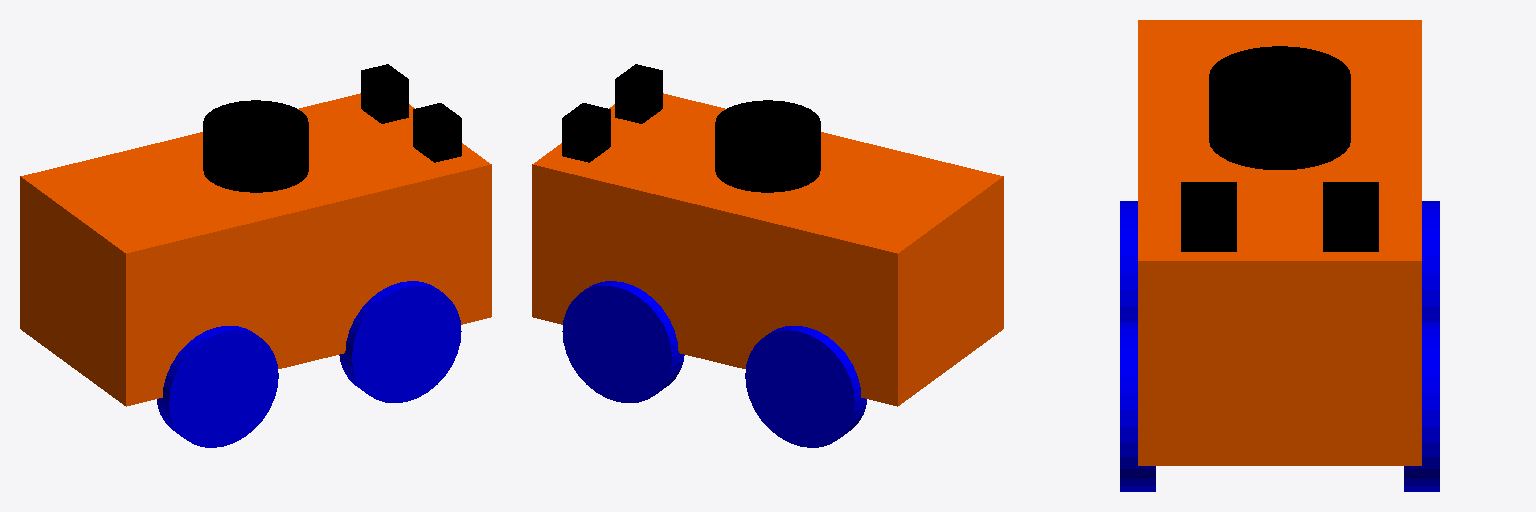
The robot description file, URDF, robot "4wd_test":
<?xml version="1.0" ?>
<robot name="4wd_test">

<link name="base_link">
    <visual>
        <origin xyz=" 0 0 0" rpy="0 0 0" />
        <geometry>
            <box size="0.40 0.20 0.16"/>
        </geometry>
        <material name="yellow">
            <color rgba="1 0.4 0 1"/>
        </material>
    </visual>
</link>

<joint name="left_back_wheel_joint" type="continuous">
    <origin xyz="-0.1 -0.1 -0.08" rpy="0 0 0"/>
    <parent link="base_link"/>
    <child link="left_back_wheel_link"/>
    <axis xyz="0 1 0"/>
</joint>

<link name="left_back_wheel_link">
    <visual>
        <origin xyz="0 0 0" rpy="1.5707 0 0" />
        <geometry>
            <cylinder radius="0.06" length = "0.025"/>
        </geometry>
        <material name="blue">
            <color rgba="0 0 1 0.9"/>
        </material>
    </visual>
</link>

<joint name="right_back_wheel_joint" type="continuous">
    <origin xyz="-0.1 0.1 -0.08" rpy="0 0 0"/>
    <parent link="base_link"/>
    <child link="right_back_wheel_link"/>
    <axis xyz="0 1 0"/>
</joint>

<link name="right_back_wheel_link">
    <visual>
        <origin xyz="0 0 0" rpy="1.5707 0 0" />
        <geometry>
            <cylinder radius="0.06" length = "0.025"/>
        </geometry>
        <material name="blue">
            <color rgba="0 0 1 0.9"/>
        </material>
    </visual>
</link>

<joint name="left_front_wheel_joint" type="continuous">
    <origin xyz="0.1 -0.1 -0.08" rpy="0 0 0"/>
    <parent link="base_link"/>
    <child link="left_front_wheel_link"/>
    <axis xyz="0 1 0"/>
</joint>

<link name="left_front_wheel_link">
    <visual>
        <origin xyz="0 0 0" rpy="1.5707 0 0" />
        <geometry>
            <cylinder radius="0.06" length = "0.025"/>
        </geometry>
        <material name="blue">
            <color rgba="0 0 1 0.9"/>
        </material>
    </visual>
</link>

<joint name="right_front_wheel_joint" type="continuous">
    <origin xyz="0.1 0.1 -0.08" rpy="0 0 0"/>
    <parent link="base_link"/>
    <child link="right_front_wheel_link"/>
    <axis xyz="0 1 0"/>
</joint>

<link name="right_front_wheel_link">
    <visual>
        <origin xyz="0 0 0" rpy="1.5707 0 0" />
        <geometry>
            <cylinder radius="0.06" length = "0.025"/>
        </geometry>
        <material name="blue">
            <color rgba="0 0 1 0.9"/>
        </material>
    </visual>
</link>

<joint name="left_camera_joint" type="fixed">
    <origin xyz="0.17 -0.05 0.10" rpy="0 0 0"/>
    <parent link="base_link"/>
    <child link="left_camera_link"/>
</joint>


<link name="left_camera_link">
    <visual>
        <origin xyz=" 0 0 0 " rpy="0 0 0" />
        <geometry>
            <box size="0.03 0.04 0.04" />
        </geometry>
        <material name="black">
            <color rgba="0 0 0 0.95"/>
        </material>
    </visual>
</link>

<joint name="right_camera_joint" type="fixed">
    <origin xyz="0.17 0.05 0.10" rpy="0 0 0"/>
    <parent link="base_link"/>
    <child link="right_camera_link"/>
</joint>


<link name="right_camera_link">
    <visual>
        <origin xyz=" 0 0 0 " rpy="0 0 0" />
        <geometry>
            <box size="0.03 0.04 0.04" />
        </geometry>
        <material name="black">
            <color rgba="0 0 0 0.95"/>
        </material>
    </visual>
</link>

<joint name="laser_joint" type="fixed">
    <origin xyz="0 0 0.105" rpy="0 0 0"/>
    <parent link="base_link"/>
    <child link="laser_link"/>
</joint>


<link name="laser_link">
    <visual>
        <origin xyz=" 0 0 0 " rpy="0 0 0" />
        <geometry>
            <cylinder length="0.05" radius="0.05"/>
        </geometry>
        <material name="black"/>
    </visual>
</link>


</robot>

--- Render facts (derived) ---
The picture shows the robot from 3 angles, left to right: view 1: azimuth 30°, elevation 25°; view 2: azimuth 150°, elevation 25°; view 3: azimuth 270°, elevation 25°; orthographic projection.
Model 4wd_test with 8 links and 7 joints (4 continuous, 3 fixed), rooted at base_link, posed all joints at 0.
Visible links, largest first — view 1: base_link, left_back_wheel_link, left_front_wheel_link, laser_link, left_camera_link, right_camera_link; view 2: base_link, right_back_wheel_link, right_front_wheel_link, laser_link, right_camera_link, left_camera_link; view 3: base_link, laser_link, left_camera_link, right_camera_link, left_front_wheel_link, right_front_wheel_link, left_back_wheel_link, right_back_wheel_link.
Link boxes in pixels (bbox=[...]): base_link: bbox=[20, 93, 491, 406]; left_back_wheel_link: bbox=[157, 326, 278, 447]; left_front_wheel_link: bbox=[339, 281, 461, 402]; laser_link: bbox=[203, 100, 308, 192]; left_camera_link: bbox=[413, 103, 461, 162]; right_camera_link: bbox=[361, 64, 408, 123]; base_link: bbox=[532, 93, 1003, 406]; right_back_wheel_link: bbox=[745, 326, 866, 447]; right_front_wheel_link: bbox=[562, 281, 684, 402]; laser_link: bbox=[715, 100, 820, 192]; right_camera_link: bbox=[562, 103, 610, 162]; left_camera_link: bbox=[615, 64, 662, 123]; base_link: bbox=[1138, 20, 1421, 465]; laser_link: bbox=[1209, 46, 1350, 169]; left_camera_link: bbox=[1181, 182, 1236, 251]; right_camera_link: bbox=[1323, 182, 1378, 251]; left_front_wheel_link: bbox=[1120, 321, 1155, 491]; right_front_wheel_link: bbox=[1404, 321, 1439, 491]; left_back_wheel_link: bbox=[1120, 201, 1137, 320]; right_back_wheel_link: bbox=[1422, 201, 1439, 320].
Size in the robot's own frame: 0.4 by 0.225 by 0.27 metres.
Geometry: primitives only (box / cylinder / sphere), no mesh files.
